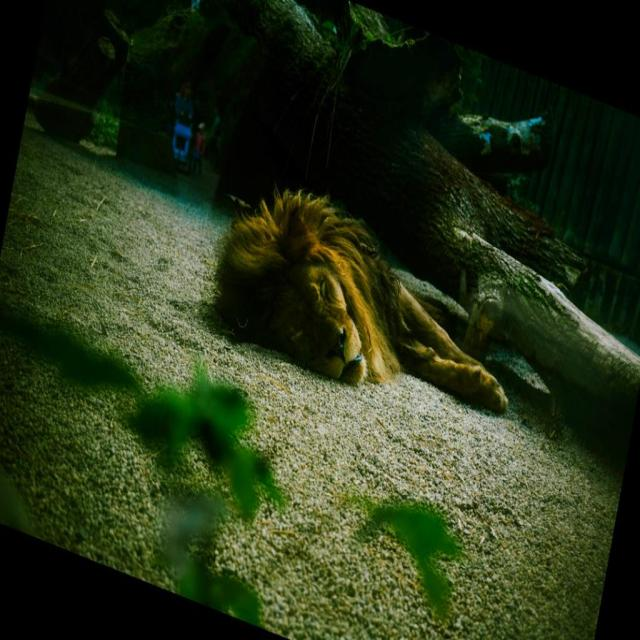Lion: (199, 154, 530, 446)
